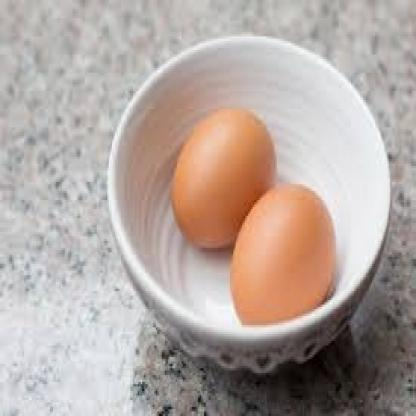egg: (229, 178, 336, 332), (170, 104, 276, 252)
